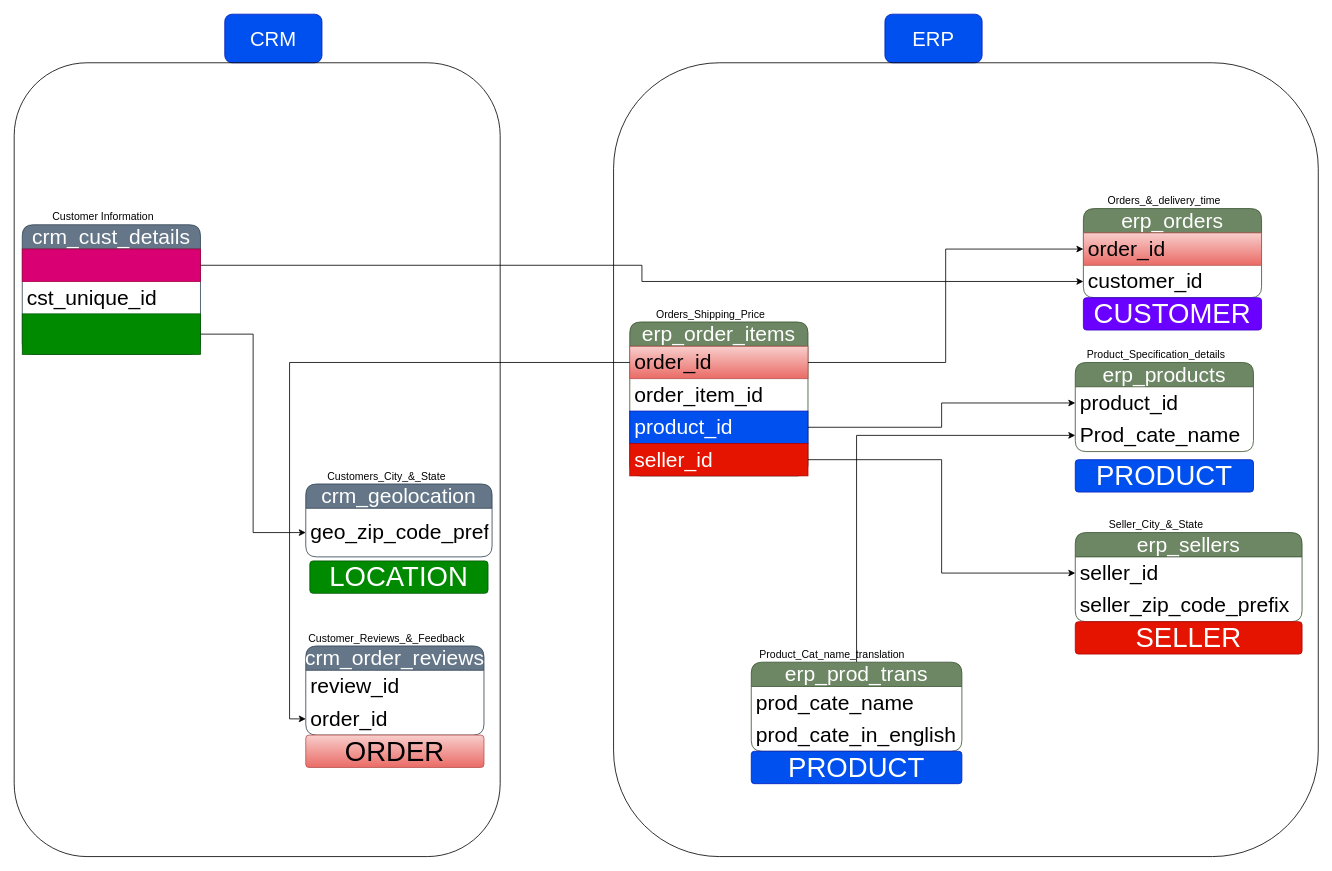
Image size: 1332x871. Some labels were removed from this diagram. Each missing label, with the centre of its shape:
"cst_id" belongs at pixel 110 264.
"cst_zip_code_pref" belongs at pixel 110 333.
